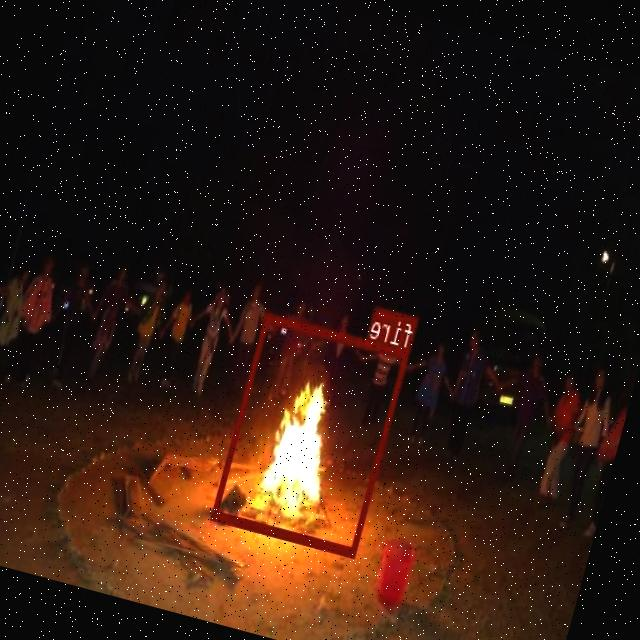fire: (212, 311, 412, 556)
